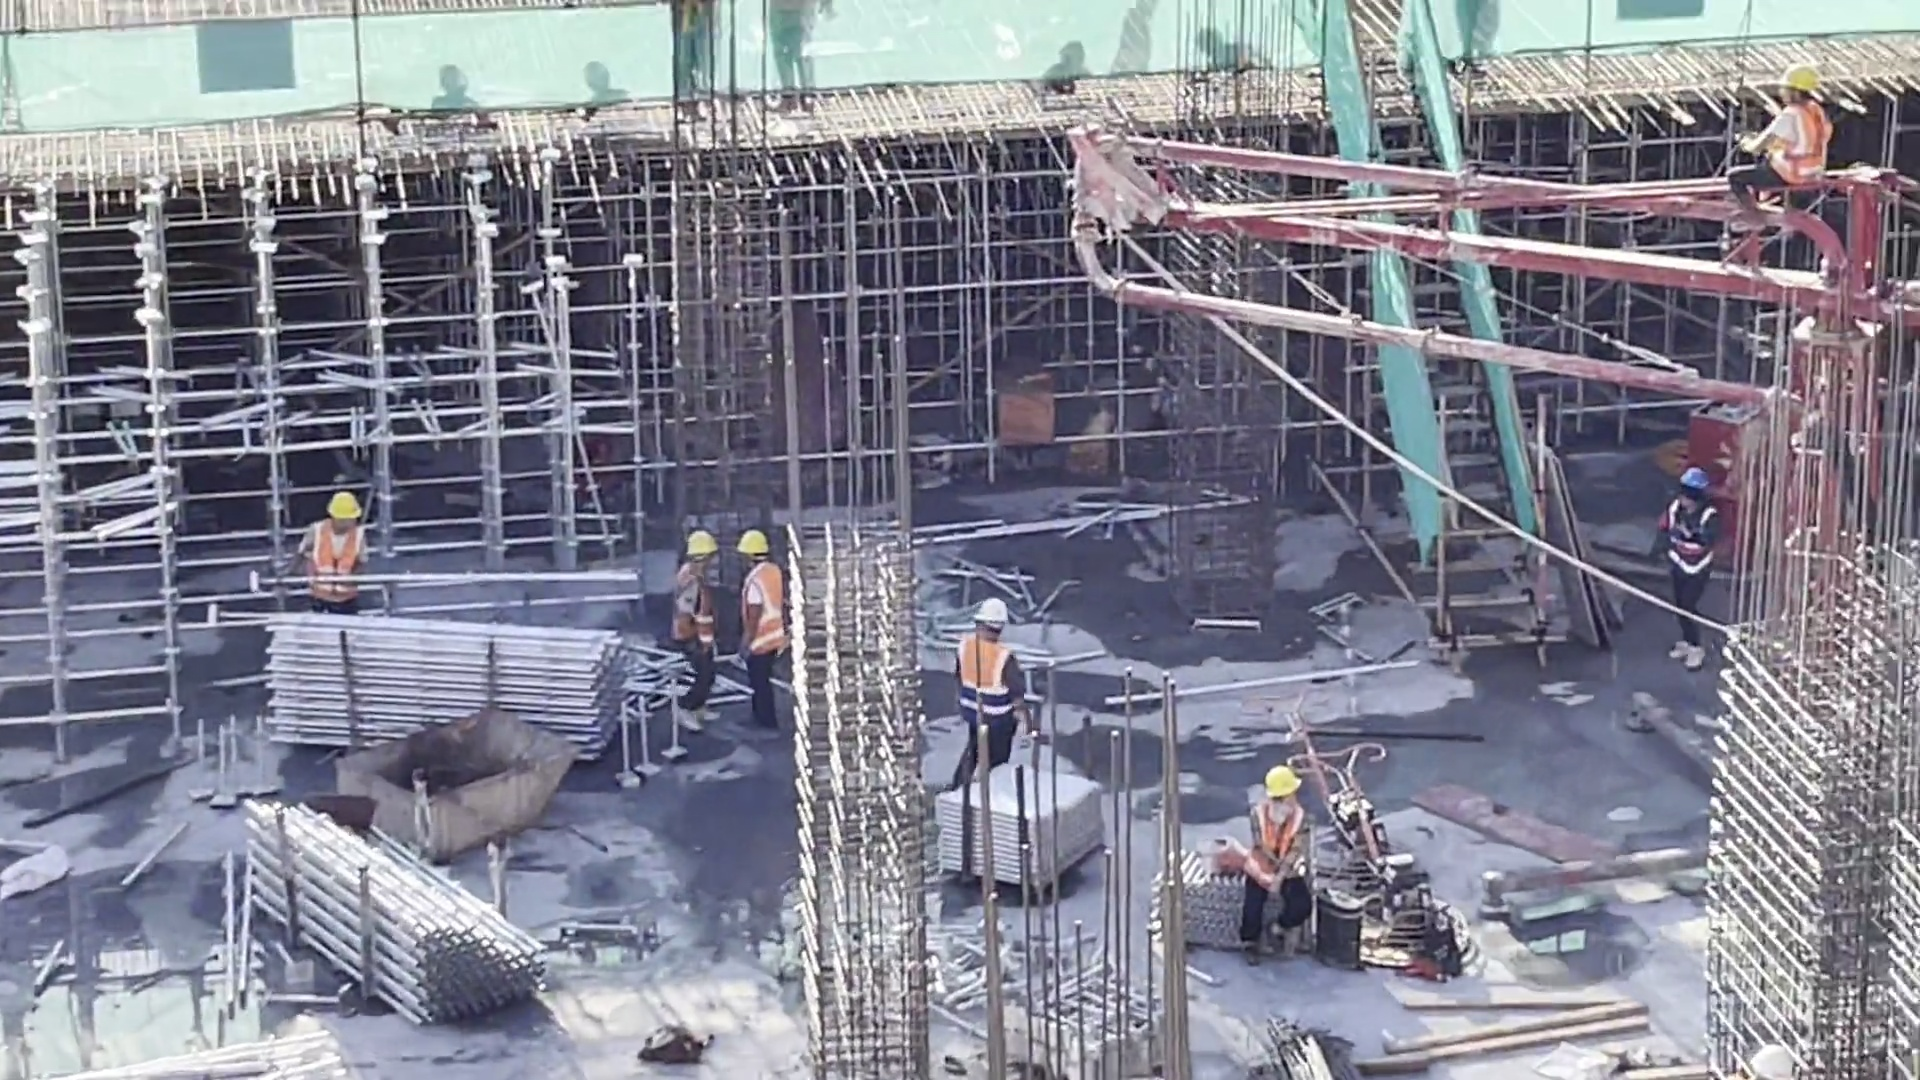helmet: (1258, 758, 1311, 798), (1768, 63, 1823, 99), (969, 585, 1010, 631), (319, 491, 362, 530), (1675, 460, 1712, 495), (730, 529, 768, 558), (679, 534, 718, 559)
person: (1725, 58, 1834, 240), (1241, 754, 1316, 968), (724, 529, 796, 736), (948, 591, 1027, 779), (1654, 463, 1720, 673), (667, 526, 726, 734), (292, 482, 371, 628)
vest: (951, 629, 1011, 720), (741, 563, 795, 660), (308, 520, 366, 593), (1665, 494, 1716, 570)
